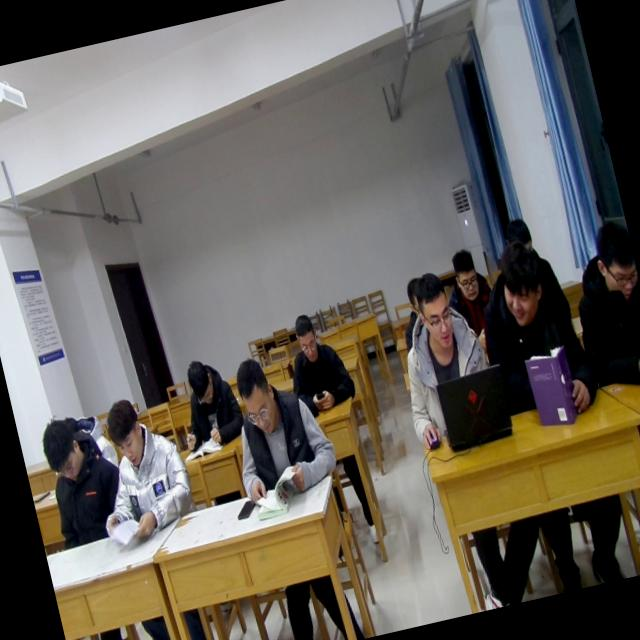down: (582, 209, 640, 304), (228, 351, 287, 441), (406, 266, 459, 356), (98, 392, 152, 476), (34, 412, 86, 489), (442, 240, 485, 308), (177, 352, 219, 410), (288, 307, 324, 363)
sit: (460, 222, 607, 430), (379, 260, 506, 453), (212, 344, 344, 512), (79, 388, 200, 552), (25, 403, 129, 552), (559, 206, 640, 385), (272, 301, 358, 416), (168, 346, 248, 449), (438, 236, 508, 344)
